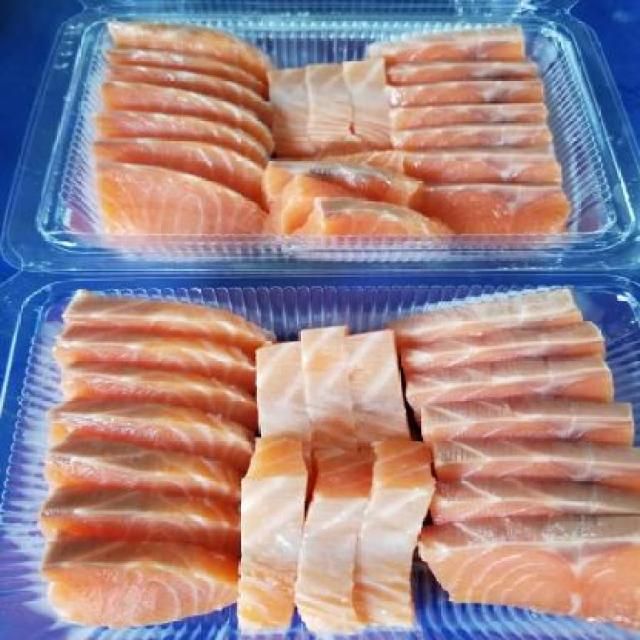salmon: (31, 297, 640, 629), (88, 8, 584, 262)
